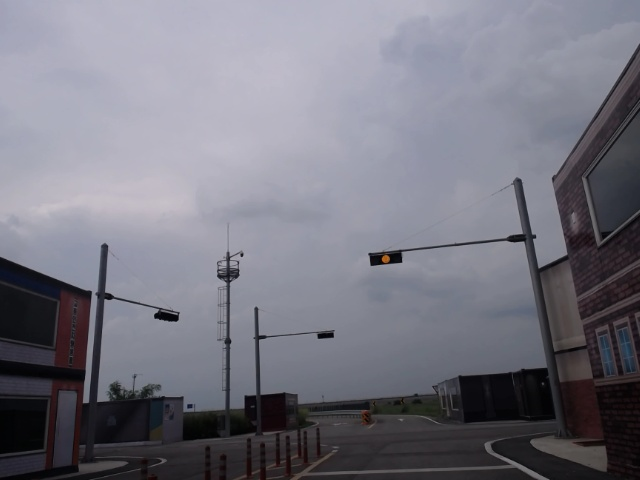orange_3: (369, 252, 403, 266)
